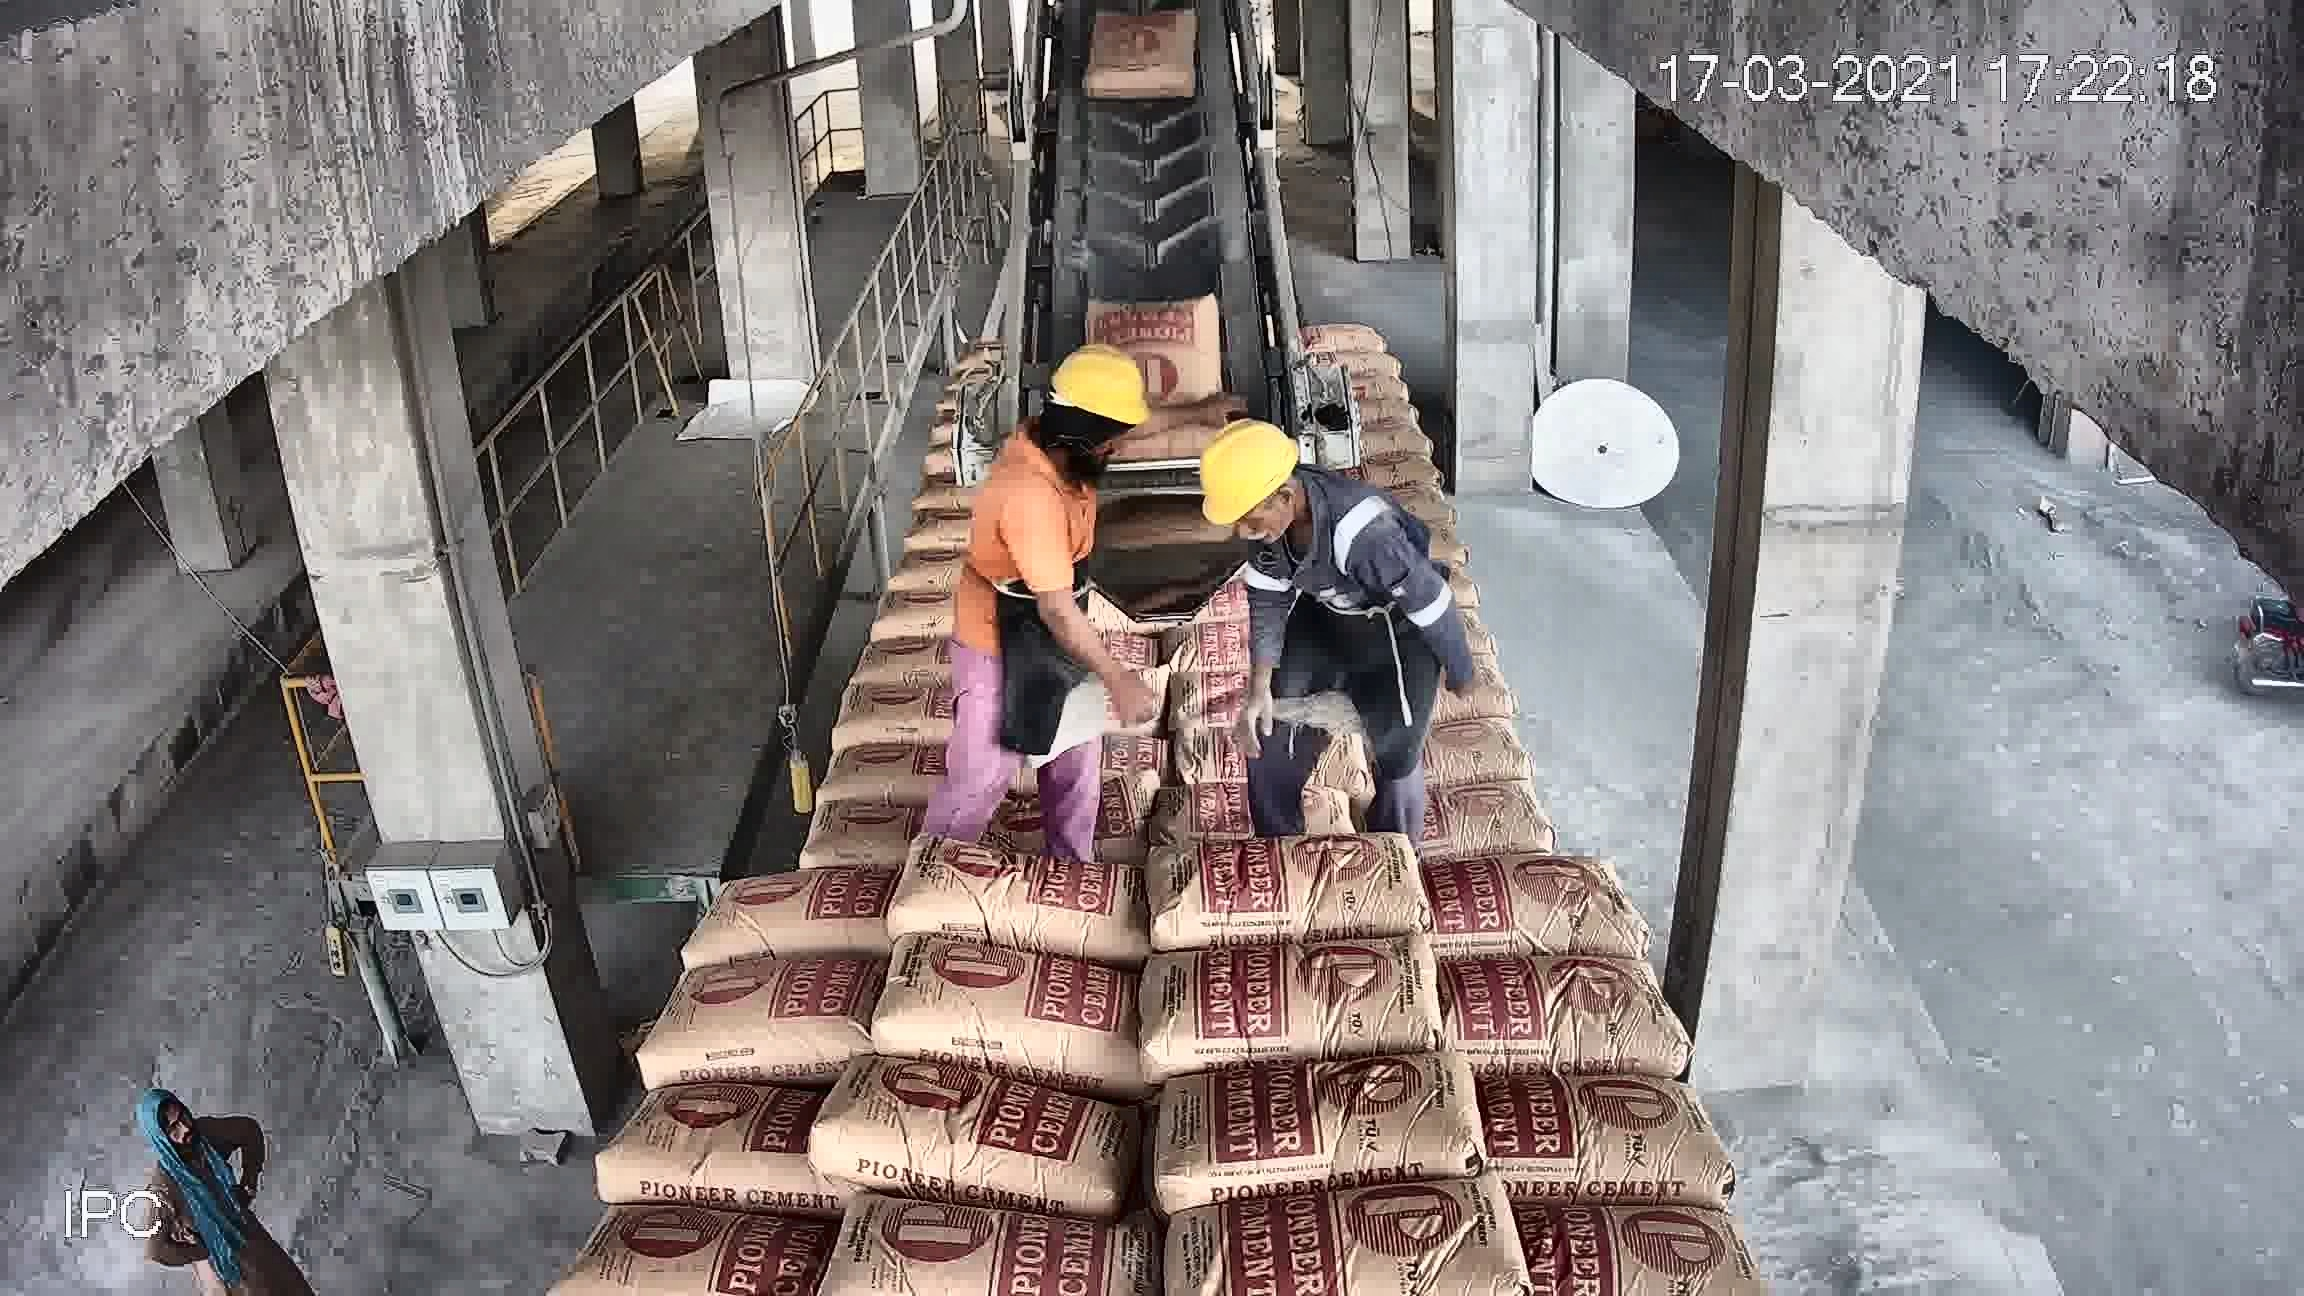bag: (1097, 271, 1195, 434), (1097, 9, 1196, 70)
bag_h: (1146, 1036, 1483, 1188), (1116, 926, 1448, 1068), (847, 957, 1161, 1093), (1204, 1163, 1502, 1296), (1157, 817, 1416, 959), (804, 1098, 1143, 1206), (641, 946, 867, 1086), (665, 858, 911, 984), (1146, 722, 1389, 850), (604, 1071, 820, 1212), (1412, 946, 1658, 1063), (1495, 1059, 1696, 1190), (1128, 658, 1366, 769), (1522, 1195, 1774, 1296), (820, 1218, 1146, 1296), (896, 855, 1152, 942), (1423, 848, 1652, 943), (714, 772, 907, 885), (910, 767, 1139, 861), (1388, 763, 1568, 873), (559, 1207, 836, 1275), (761, 699, 919, 798), (1380, 687, 1548, 766), (916, 685, 1147, 741), (1358, 585, 1483, 649), (1048, 581, 1195, 633), (1339, 516, 1465, 574), (1355, 552, 1473, 609), (1385, 635, 1495, 692), (1025, 630, 1171, 673), (1305, 418, 1426, 460), (1059, 540, 1174, 582), (1324, 388, 1421, 434), (1351, 492, 1478, 521), (1380, 446, 1438, 500)
belt: (1027, 2, 1271, 456)
